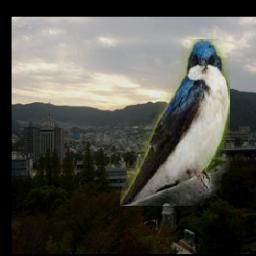Swallow: (120, 39, 230, 206)
